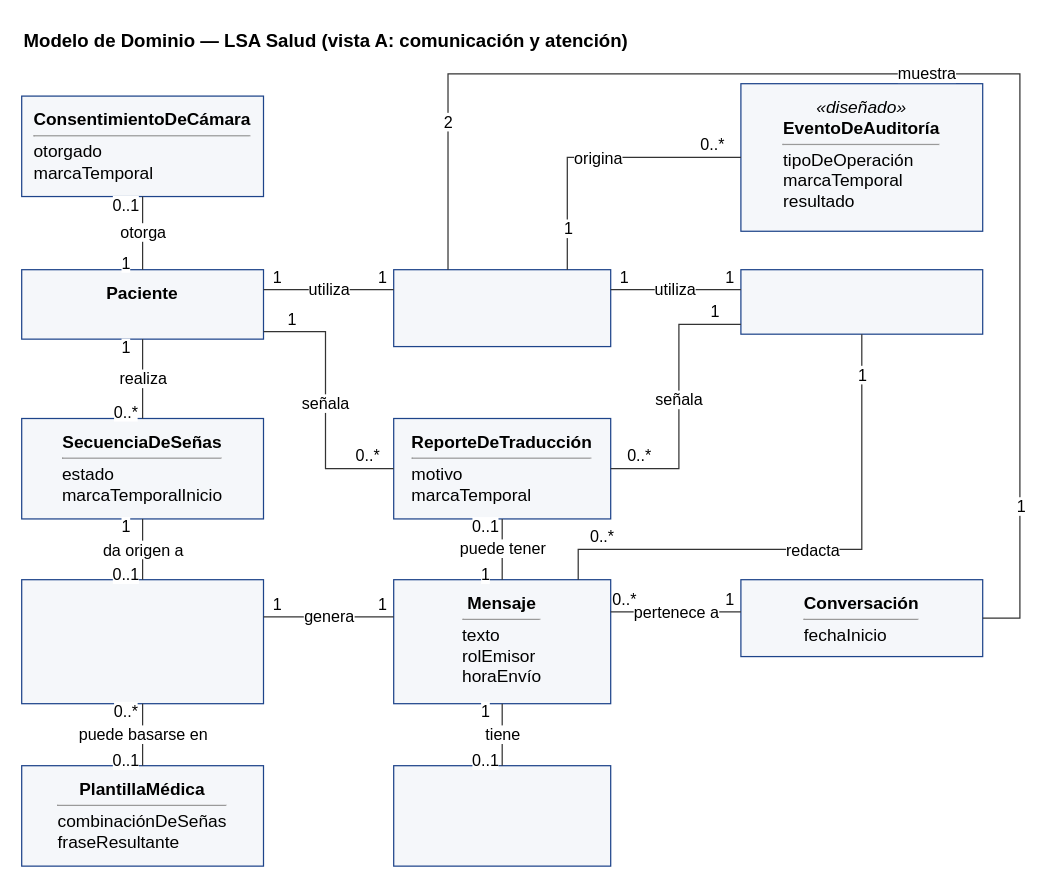
The diagram is 1047 pixels wide and 888 high, and some of its shapes have lost their labels. Each missing label, with the centre of its shape:
EstaciónDeAtención tipo: the point at 501,307
Personal de Recepción o Enfermería: the point at 861,301
SíntesisDeVoz voz formatoAudio: the point at 501,815
Traducción textoOriginal textoTraducido fuente: the point at 142,641
